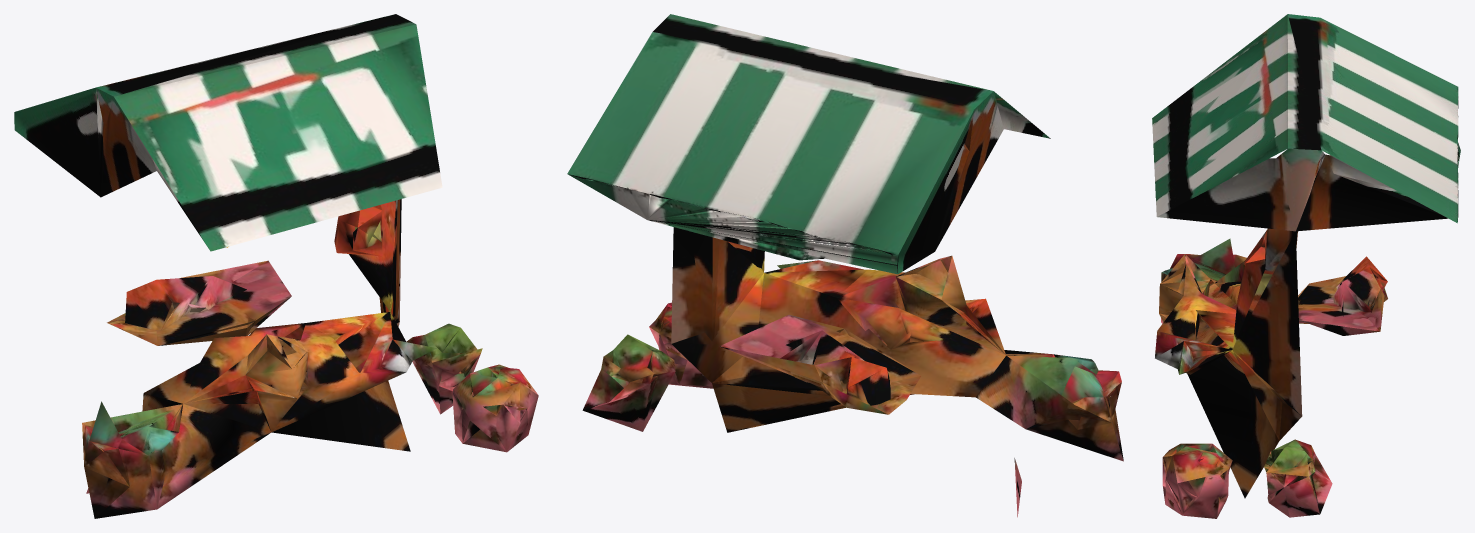
Rendered from awning_stall_4_1500.glb.
The picture shows the model from 3 angles, left to right: view 1: azimuth 30°, elevation 25°; view 2: azimuth 150°, elevation 25°; view 3: azimuth 270°, elevation 25°; orthographic projection. The views are drawn at different scales.
Parts seen in each view (by area): view 1: t1500; view 2: t1500; view 3: t1500.
Boxes of the visible parts, x1,y1,x2,y2 form: t1500: (14, 14, 538, 518); t1500: (567, 14, 1123, 517); t1500: (1152, 14, 1460, 518).
Bounding box in the file's own units: 1.75 × 1.55 × 1.19.
1 material, 1 textured.
